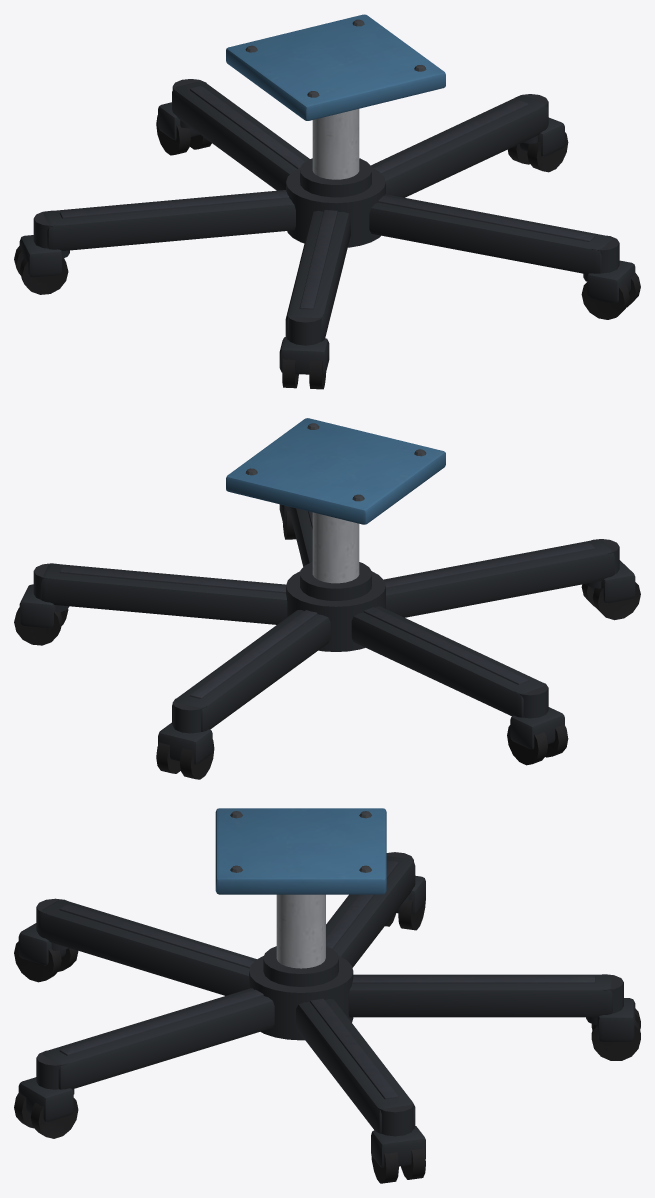
Rendered from office_chair_base.glb.
The picture shows the model from 3 angles, top to bottom: view 1: azimuth 30°, elevation 25°; view 2: azimuth 150°, elevation 25°; view 3: azimuth 270°, elevation 25°; orthographic projection. The views are drawn at different scales.
Parts seen in each view (by area): view 1: OfficeChairBaseBody; view 2: OfficeChairBaseBody; view 3: OfficeChairBaseBody.
Boxes of the visible parts, x1=… form: OfficeChairBaseBody: x1=14, y1=14, x2=640, y2=389; OfficeChairBaseBody: x1=14, y1=418, x2=640, y2=779; OfficeChairBaseBody: x1=14, y1=808, x2=640, y2=1183.
Bounding box in the file's own units: 0.6946 × 0.2475 × 0.6606.
6 materials, 5 textured.
